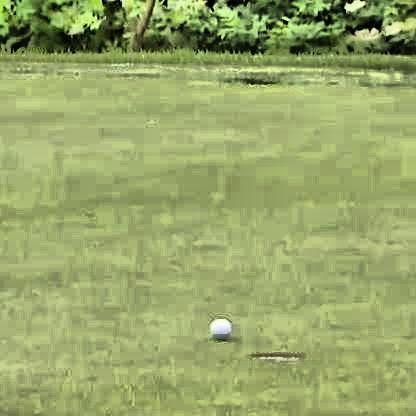golfball: (206, 313, 229, 338)
